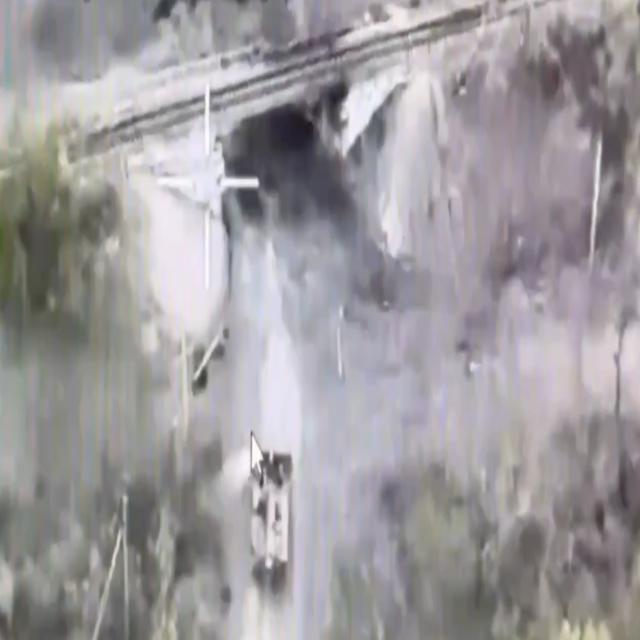vehicle: (250, 451, 294, 586)
